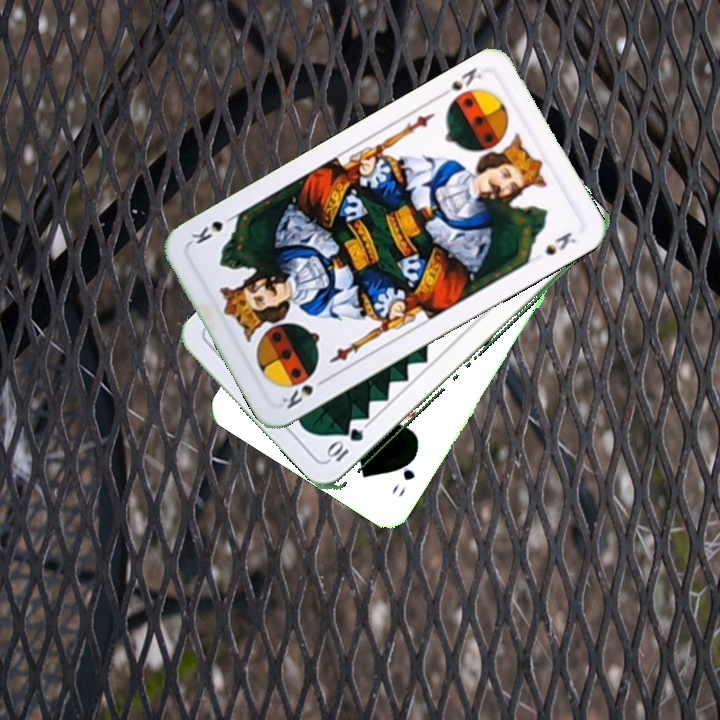G10: (325, 425, 366, 465)
GO: (387, 449, 419, 499)
SK: (277, 373, 331, 412), (434, 63, 485, 101)
